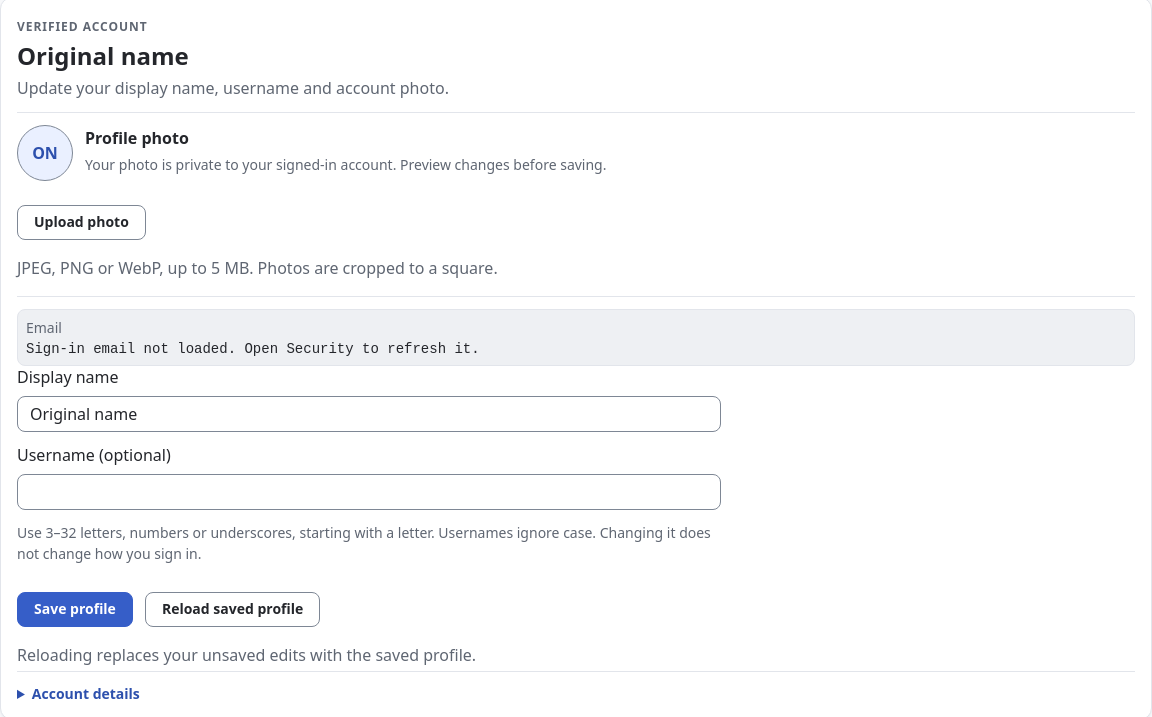
verified account profile form › does not disclose or confirm a write response bound to another account
The image size is (1152, 717).
Replace the text in the field labelled "Display name" with "My name". click: (369, 414)
box: [17, 396, 721, 432]
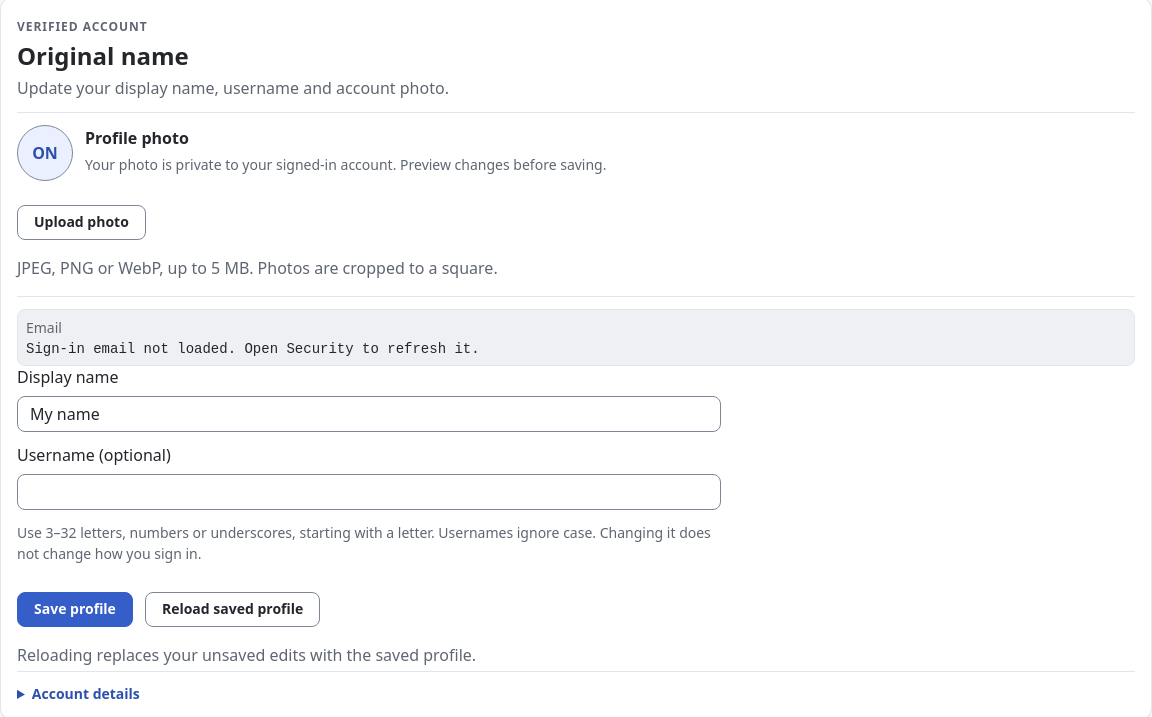
Click the button "Save profile". click: (75, 610)
box: [17, 592, 133, 627]
(page scrolled)
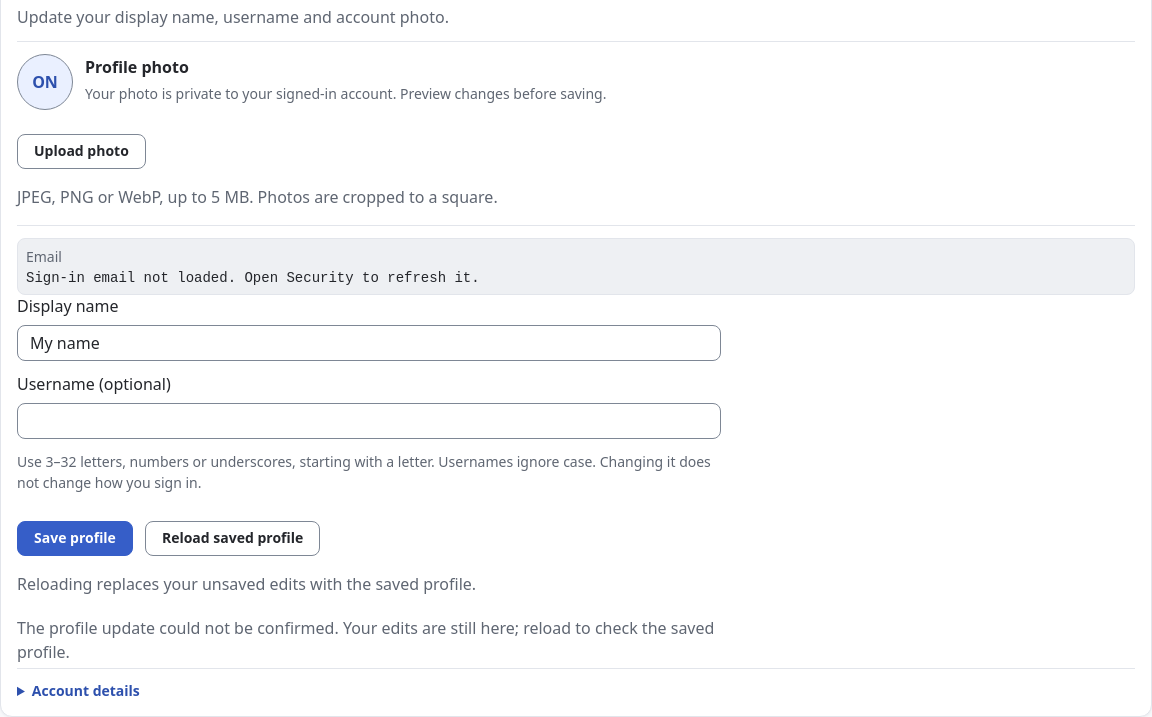
Now the message is shown, box [17, 616, 721, 664]
